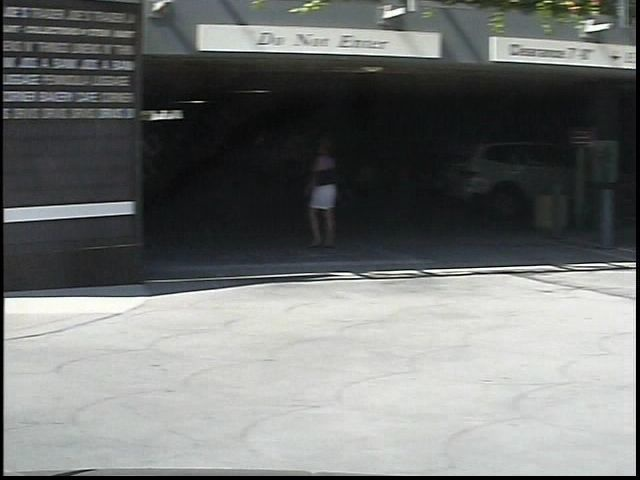person: (281, 134, 333, 255)
